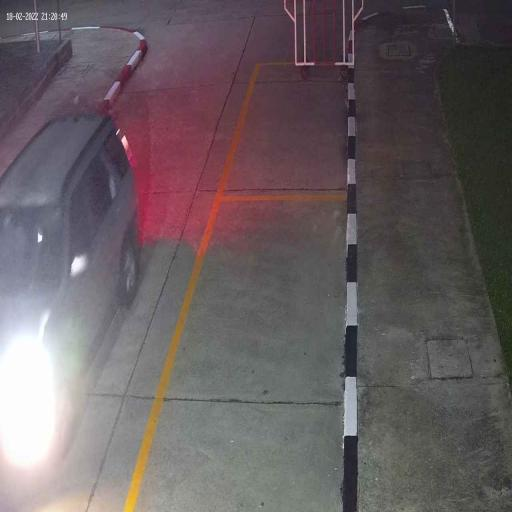car: (0, 110, 142, 482)
